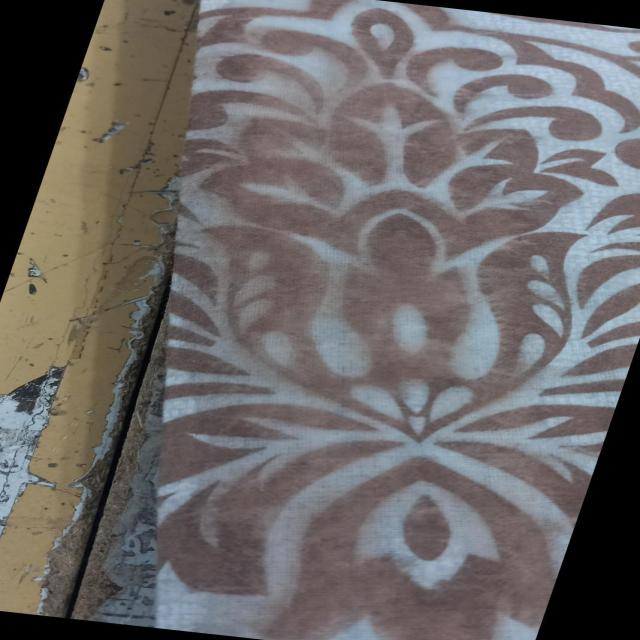baekra: (36, 28, 640, 640)
